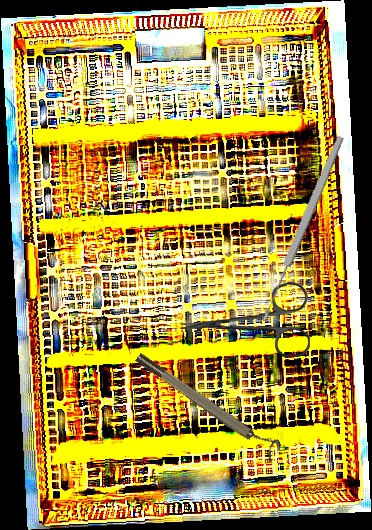Fixation Ring: (133, 344, 284, 463)
Iris Scissors: (178, 281, 311, 362)
Surgical Spoon: (257, 133, 347, 324)
